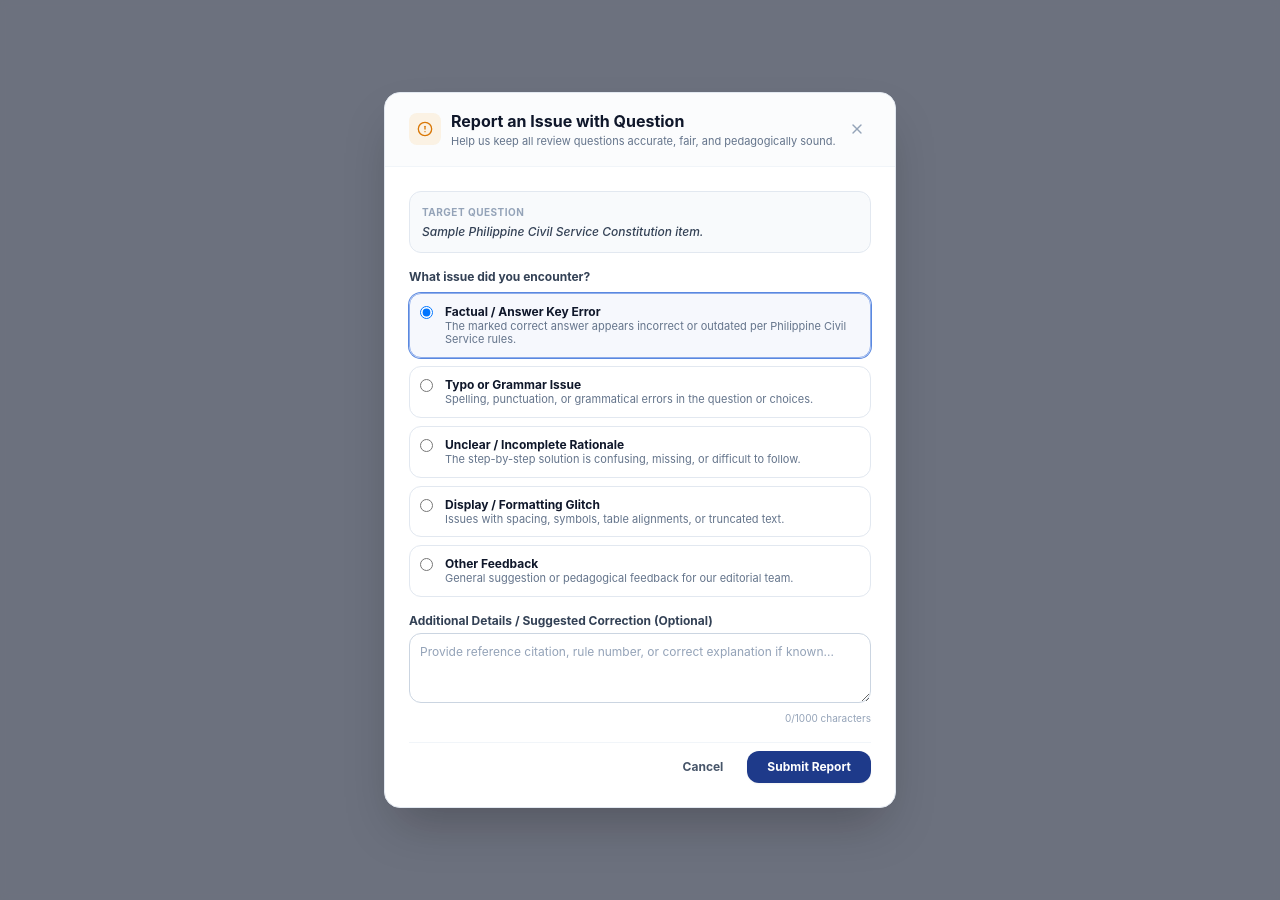
it: QuestionReportModal Component › submits report to API and displays success state
Replace the text in the text box with placeholder "reference citation" with "Section 3 Article IX-B clarification." at [640, 668], box [409,633,871,703]
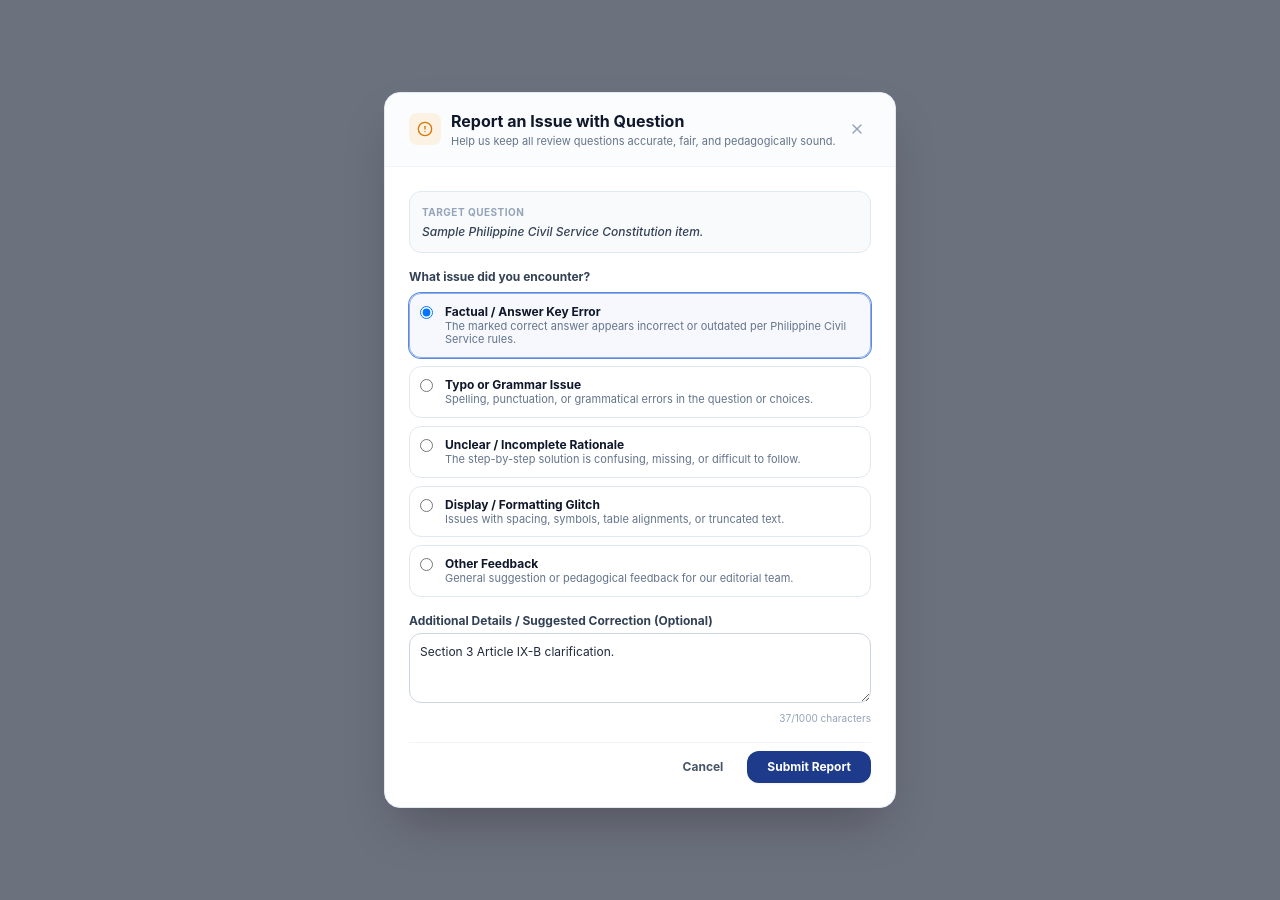
Click the button "Submit Report" at [809, 767], box [747,751,871,783]
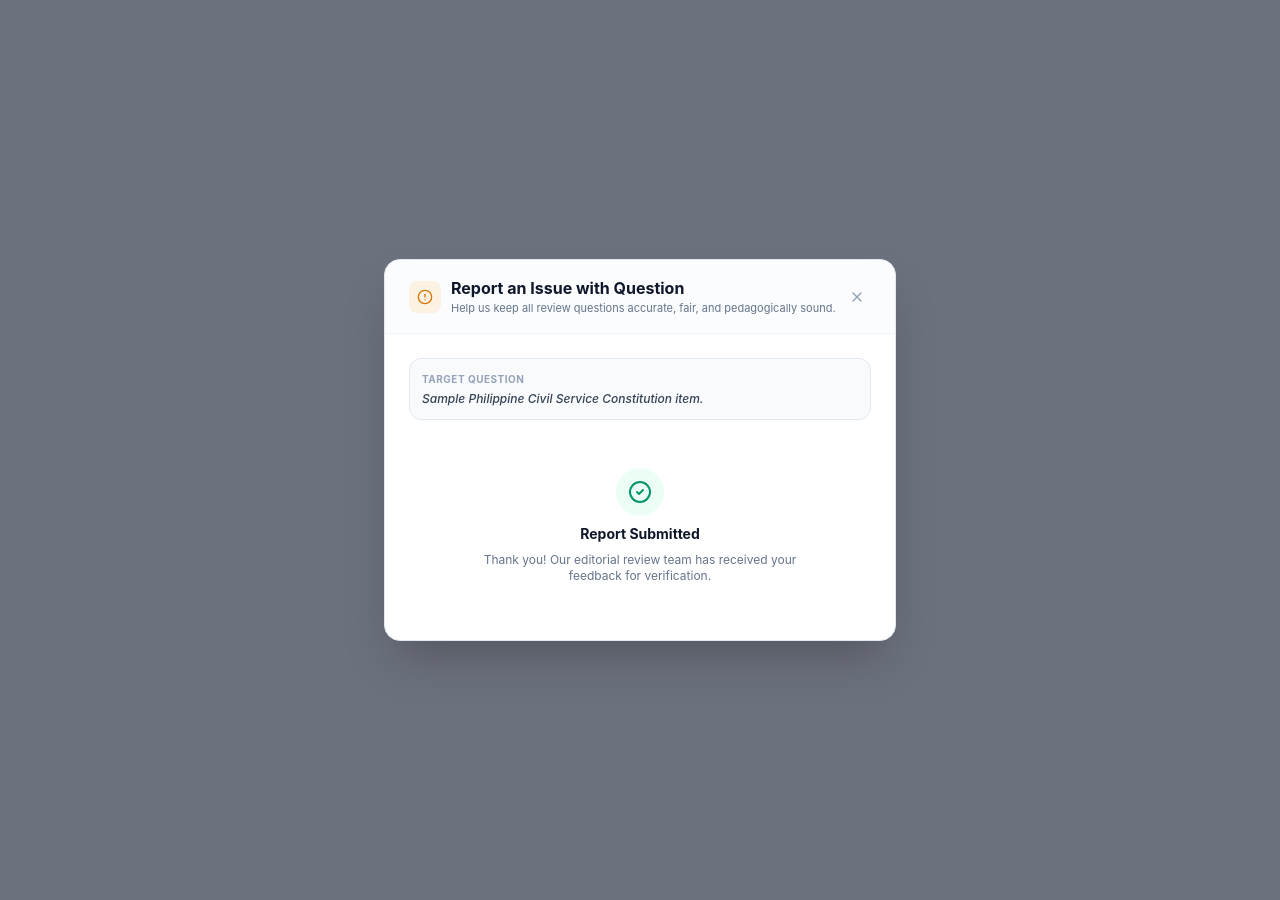
Now the heading "Report Submitted" is shown, box [580,525,700,542]
